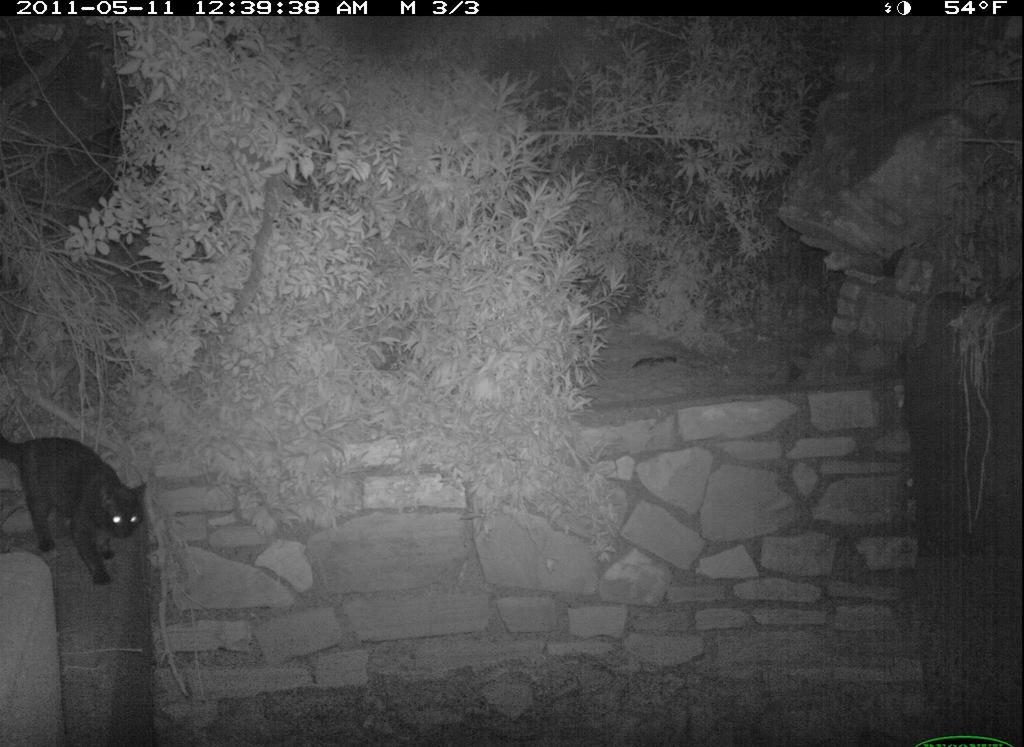cat: (2, 428, 157, 594)
